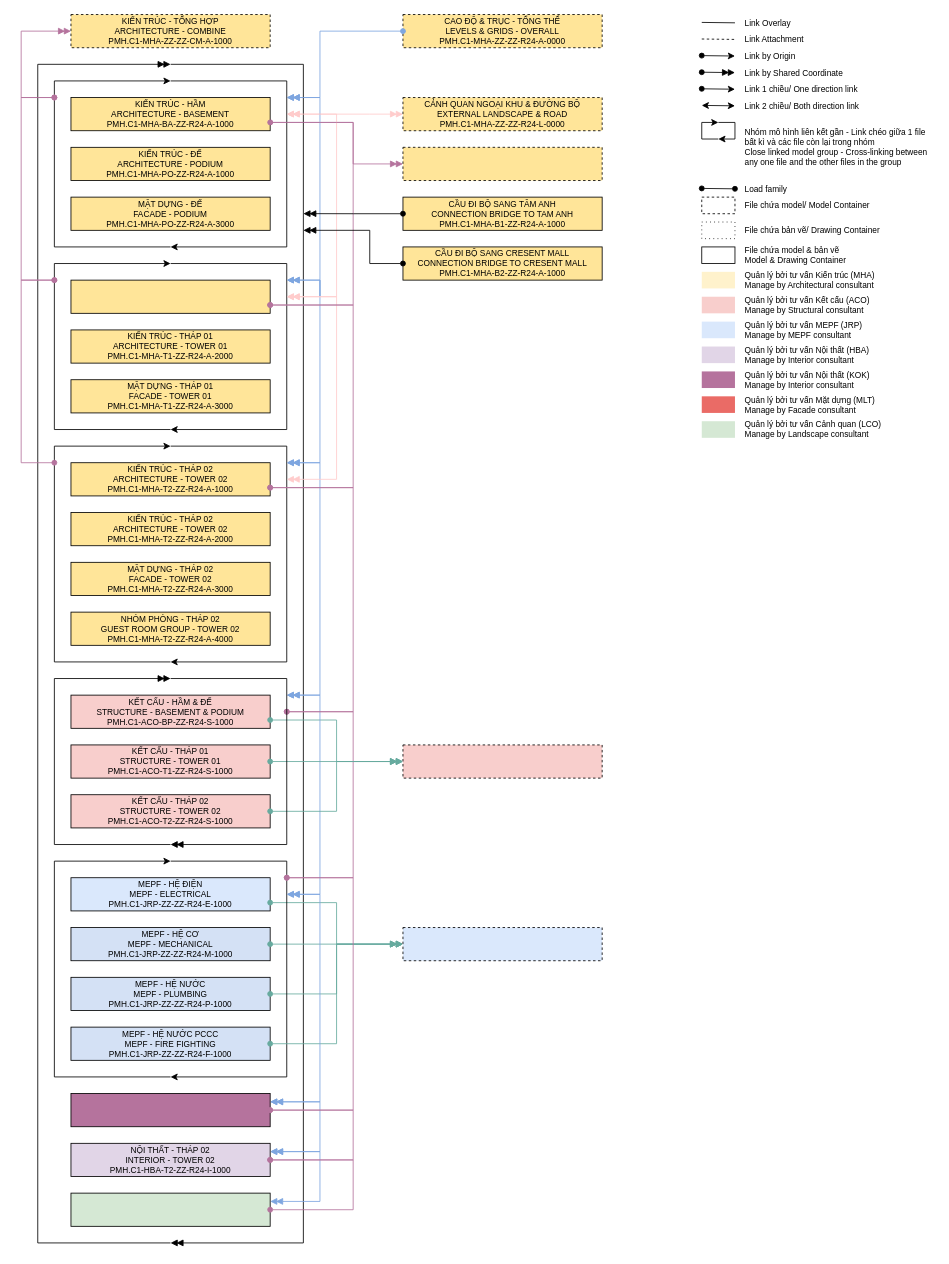
This 949x1264 diagram has some shape labels left out. The centre of each missing label's shape, as x and y in pixels:
CẢNH QUAN - TỔNG THỂ LANDSCAPE - OVERALL PMH.C1-LCO-ZZ-ZZ-R24-L-1000: point (170, 1209)
KIẾN TRÚC - THÁP 01 ARCHITECTURE - TOWER 01 PMH.C1-MHA-T1-ZZ-R24-A-1000: point (170, 296)
KIỂM TRA VA CHẠM CLASH DETECTION PMH.C1-MHA-ZZ-ZZ-CR-Z-1000: point (502, 163)
KẾT CẤU - TỔNG HỢP STRUCTURE - COMBINE PMH.C1-ACO-ZZ-ZZ-CM-S-1000: point (502, 761)
MEPF - TỔNG HỢP MEPF - COMBINE PMH.C1-JRP-ZZ-ZZ-CM-Z-1000: point (502, 944)
NỘI THẤT - THÁP 01 INTERIOR - TOWER 01 PMH.C1-KOK-T1-ZZ-R24-I-1000: point (170, 1110)
